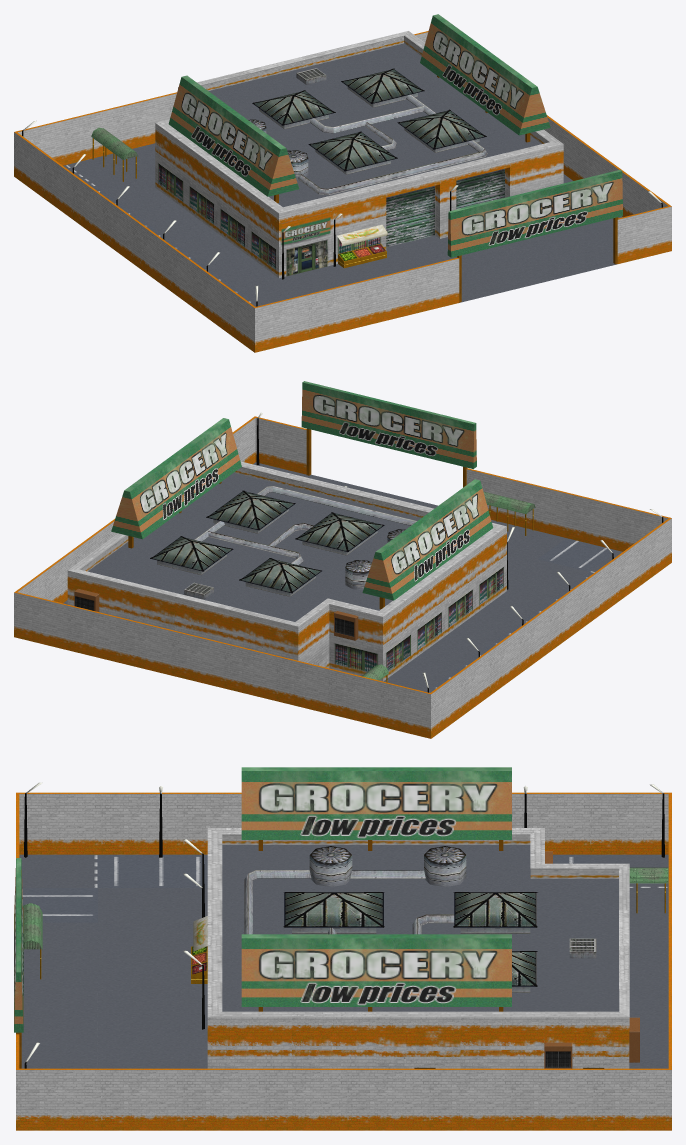
File: BLD_FoodShop_L1.FBX
The picture shows the model from 3 angles, top to bottom: view 1: azimuth 30°, elevation 25°; view 2: azimuth 150°, elevation 25°; view 3: azimuth 270°, elevation 25°; orthographic projection. The views are drawn at different scales.
Parts seen in each view (by area): view 1: B_appro_T1_L1; view 2: B_appro_T1_L1; view 3: B_appro_T1_L1.
Boxes of the visible parts, x1,y1,x2,y2 form: B_appro_T1_L1: (14,14,671,352); B_appro_T1_L1: (14,381,671,738); B_appro_T1_L1: (14,767,671,1130).
Size of the model in its own units: 4000 by 4012 by 1066.
